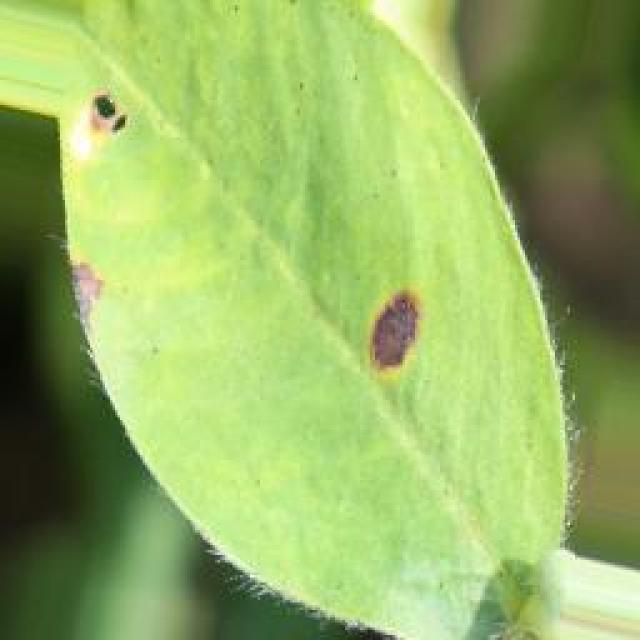Early_leaf_spot: (350, 255, 460, 391), (58, 64, 142, 156), (58, 228, 113, 330)
